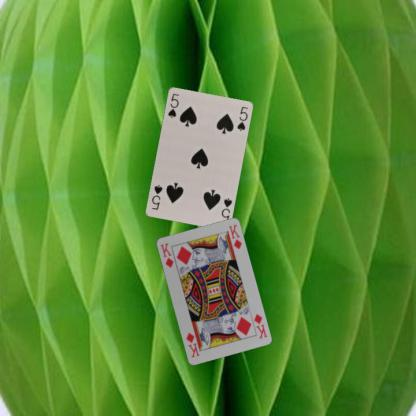5s: (218, 195, 233, 224), (165, 91, 180, 119)
Kd: (251, 311, 268, 340), (158, 240, 174, 269)
